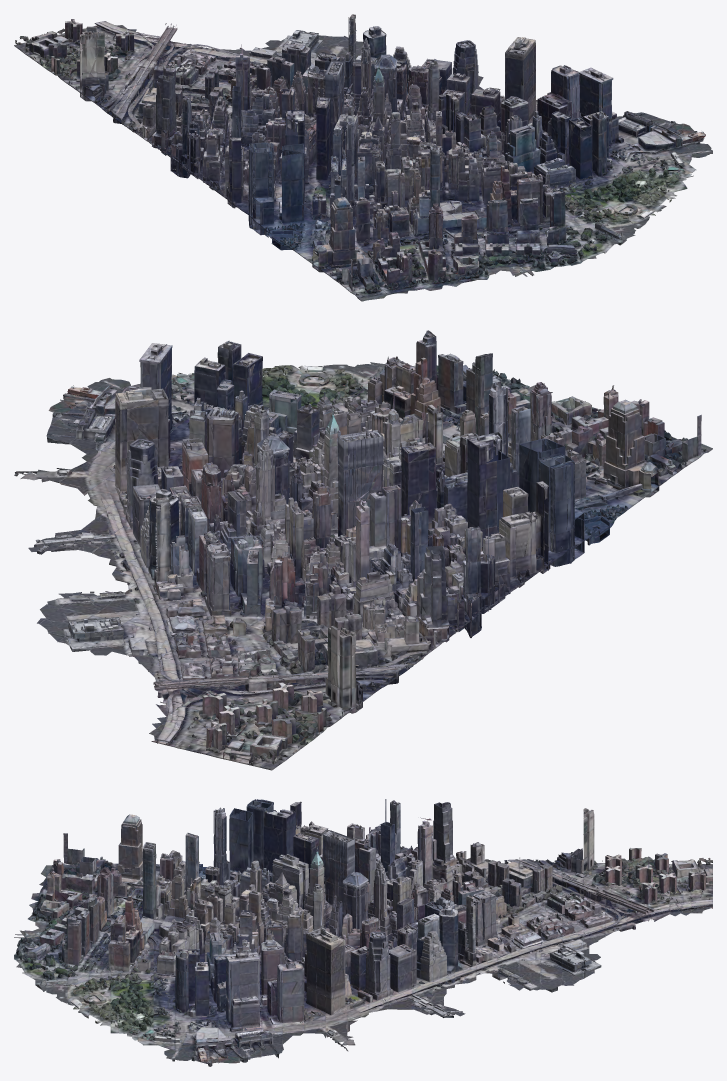
The model's file is manhattan-opt.glb.
The picture shows the model from 3 angles, top to bottom: view 1: azimuth 30°, elevation 25°; view 2: azimuth 150°, elevation 25°; view 3: azimuth 270°, elevation 25°; orthographic projection. The views are drawn at different scales.
Parts seen in each view (by area): view 1: Object_3; view 2: Object_3; view 3: Object_3.
Boxes of the visible parts, x1=… form: Object_3: x1=14, y1=14, x2=712, y2=301; Object_3: x1=14, y1=330, x2=712, y2=770; Object_3: x1=14, y1=799, x2=712, y2=1066.
Size of the model in its own units: 8.07 by 2.23 by 11.93.
1 material, 1 textured.
